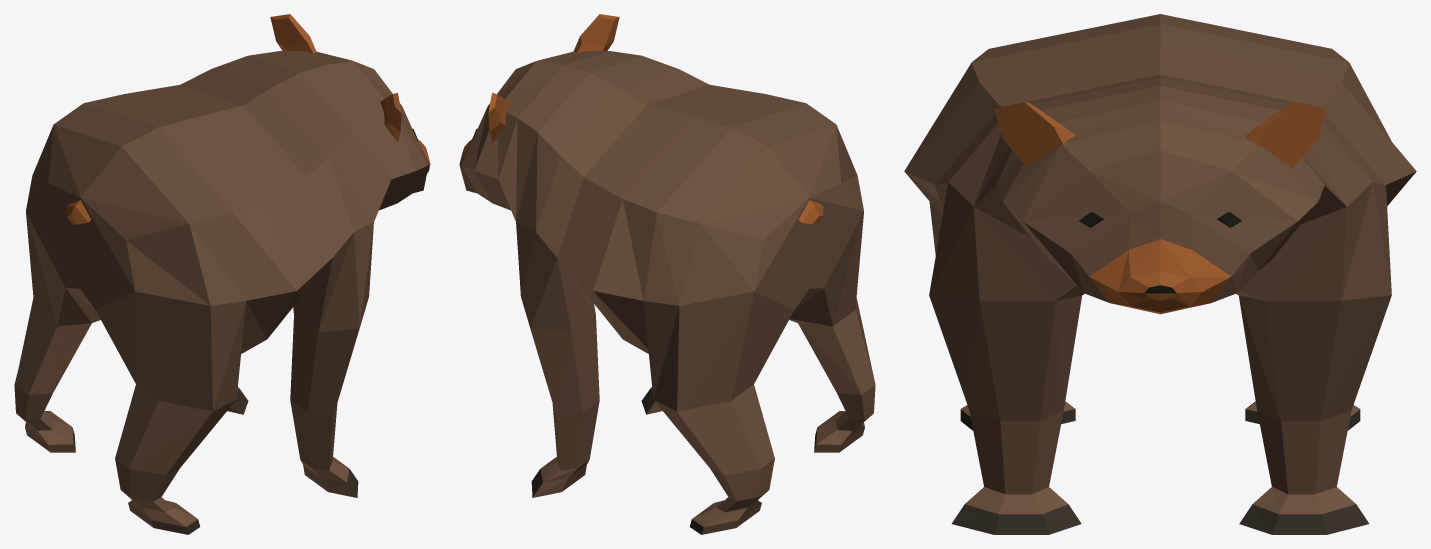
Rendered from brown-bear.glb.
3 renders of one model, left to right at view 1: azimuth 30°, elevation 25°; view 2: azimuth 150°, elevation 25°; view 3: azimuth 270°, elevation 25°, orthographic. The views are drawn at different scales.
Size of the model in its own units: 1 by 1 by 1.
